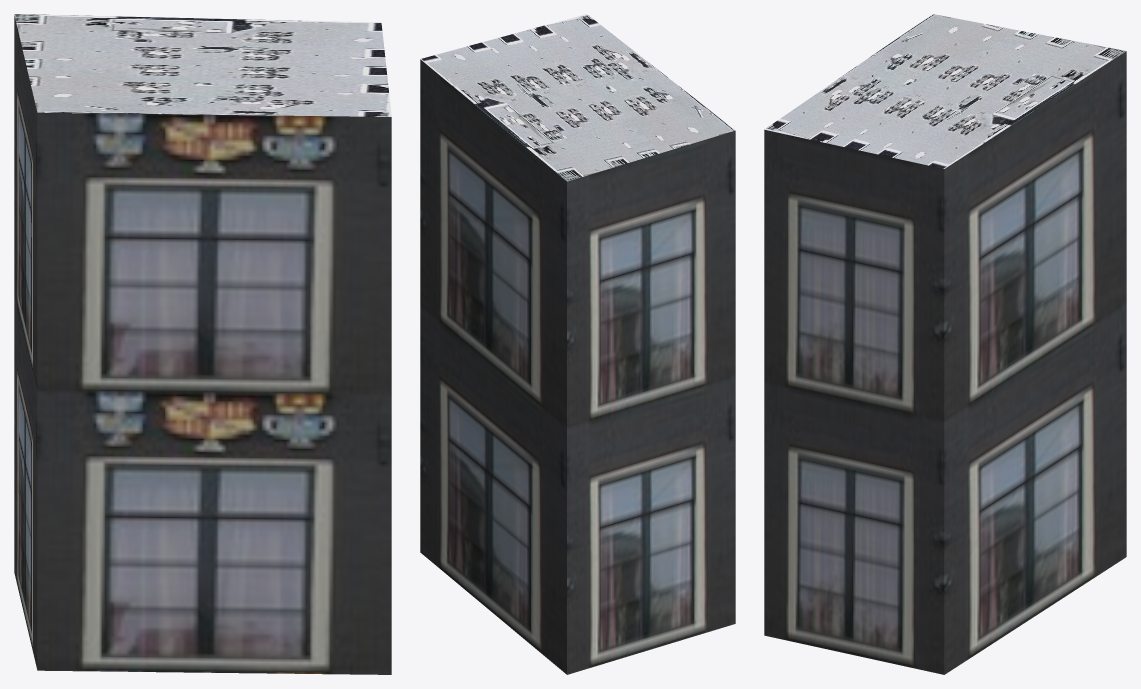
File: ResTex__3044.fbx
3 renders of one model, left to right at view 1: azimuth 30°, elevation 25°; view 2: azimuth 150°, elevation 25°; view 3: azimuth 270°, elevation 25°, orthographic. The views are drawn at different scales.
Visible parts, largest first — view 1: CityEngineMaterial_22_m, CityEngineMaterial_m; view 2: CityEngineMaterial_22_m, CityEngineMaterial_m; view 3: CityEngineMaterial_22_m, CityEngineMaterial_m.
Part boxes in pixels (left/top/right/bottom): CityEngineMaterial_22_m: left=14, top=15, right=391, bottom=674; CityEngineMaterial_m: left=14, top=14, right=391, bottom=116; CityEngineMaterial_22_m: left=420, top=59, right=735, bottom=674; CityEngineMaterial_m: left=420, top=14, right=735, bottom=181; CityEngineMaterial_22_m: left=764, top=51, right=1126, bottom=674; CityEngineMaterial_m: left=764, top=14, right=1126, bottom=168.
Bounding box in the file's own units: 3.94 × 6 × 3.9.
Materials: 2 (2 with a texture image).
